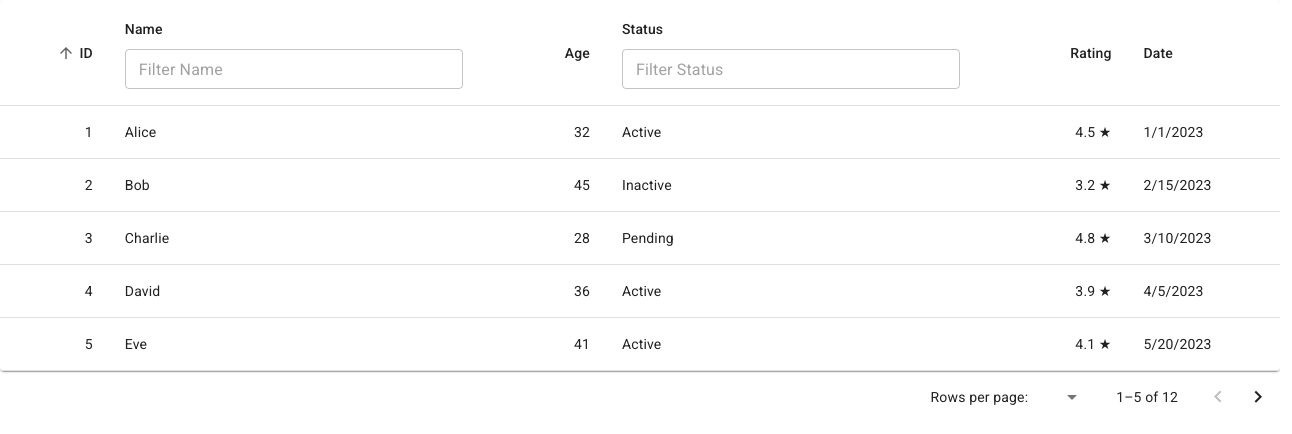
Test: DataTable › Desktop View › handles pagination correctly
Check: the number of rows is 6, box [0, 0, 1280, 106]; [0, 106, 1280, 159]; [0, 159, 1280, 212]; [0, 212, 1280, 265]; [0, 265, 1280, 318]; [0, 318, 1280, 371]
Check: the text "1" is shown, box [0, 106, 109, 159]
Note: Navigate to next page
Click the button named "next page".
click(1258, 397)  # box [1238, 377, 1278, 417]
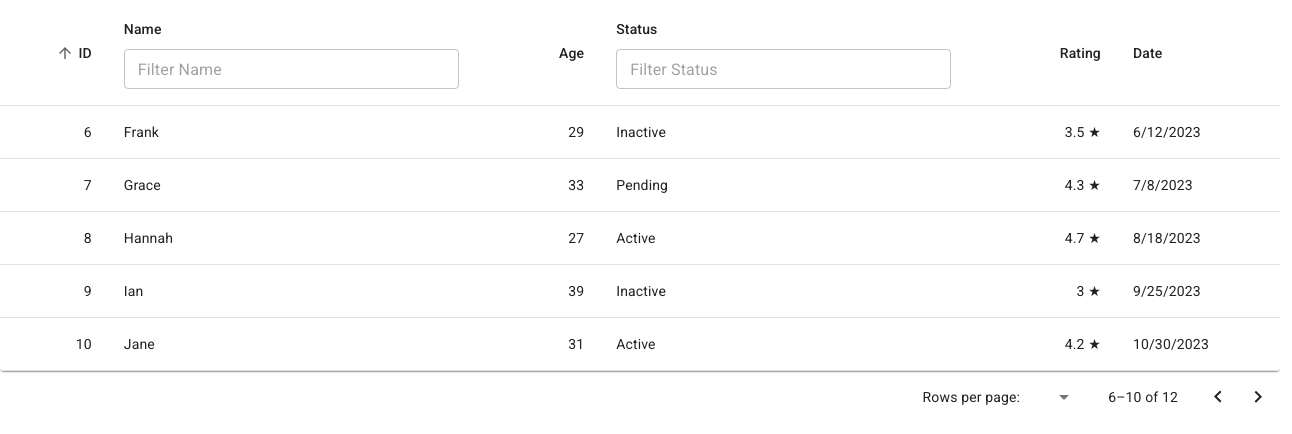
Check: the number of rows is 6, box [0, 0, 1280, 106]; [0, 106, 1280, 159]; [0, 159, 1280, 212]; [0, 212, 1280, 265]; [0, 265, 1280, 318]; [0, 318, 1280, 371]
Check: the text "6" is shown, box [0, 106, 108, 159]
Check: the text "10" is shown, box [0, 318, 108, 371]
